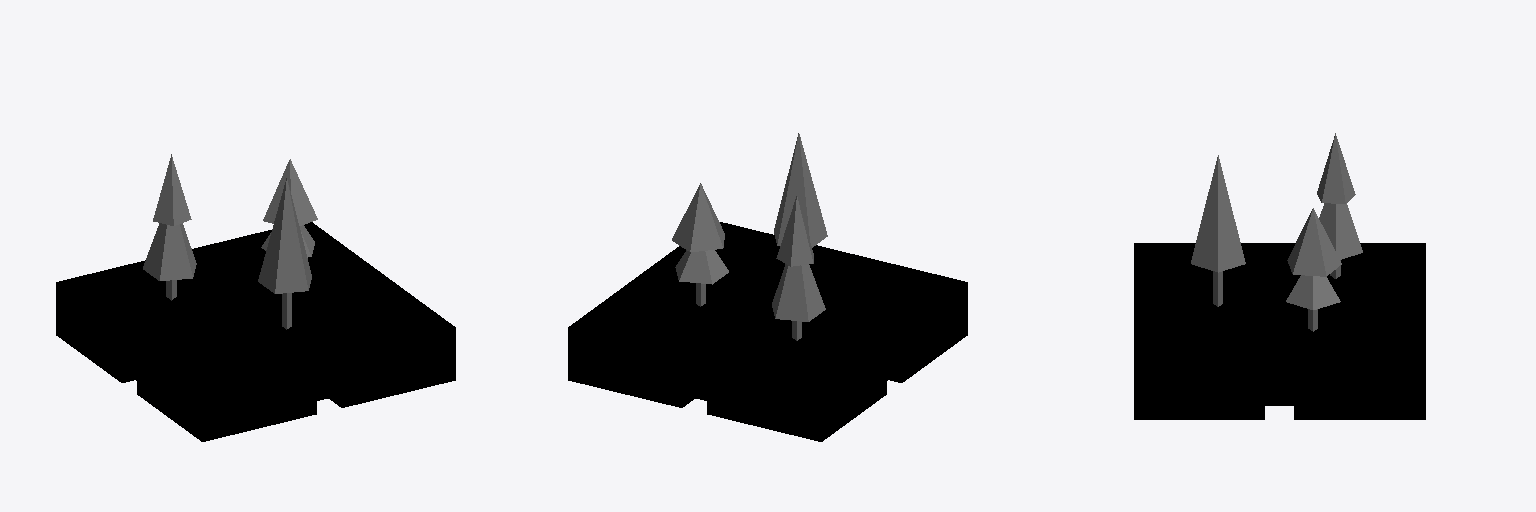
The model's file is puzzlePiece_trees.obj.
The picture shows the model from 3 angles: view 1: azimuth 30°, elevation 25°; view 2: azimuth 150°, elevation 25°; view 3: azimuth 270°, elevation 25°; orthographic projection.
Parts seen in each view (by area): view 1: puzzlePiece_twobends_NW_SE:pCube1, pCylinder9, pCylinder8, pCylinder7; view 2: puzzlePiece_twobends_NW_SE:pCube1, pCylinder9, pCylinder7, pCylinder8; view 3: puzzlePiece_twobends_NW_SE:pCube1, pCylinder8, pCylinder7, pCylinder9.
Part boxes in pixels (x1,y1,x2,y2): puzzlePiece_twobends_NW_SE:pCube1: (56,222,455,441); pCylinder9: (143,154,196,300); pCylinder8: (258,178,311,329); pCylinder7: (261,159,317,257); puzzlePiece_twobends_NW_SE:pCube1: (568,222,967,441); pCylinder9: (772,196,825,340); pCylinder7: (672,183,728,306); pCylinder8: (774,133,827,247); puzzlePiece_twobends_NW_SE:pCube1: (1134,243,1425,419); pCylinder8: (1191,155,1245,306); pCylinder7: (1286,208,1341,331); pCylinder9: (1317,133,1362,278).
Bounding box in the file's own units: 0.5 × 0.3839 × 0.5.